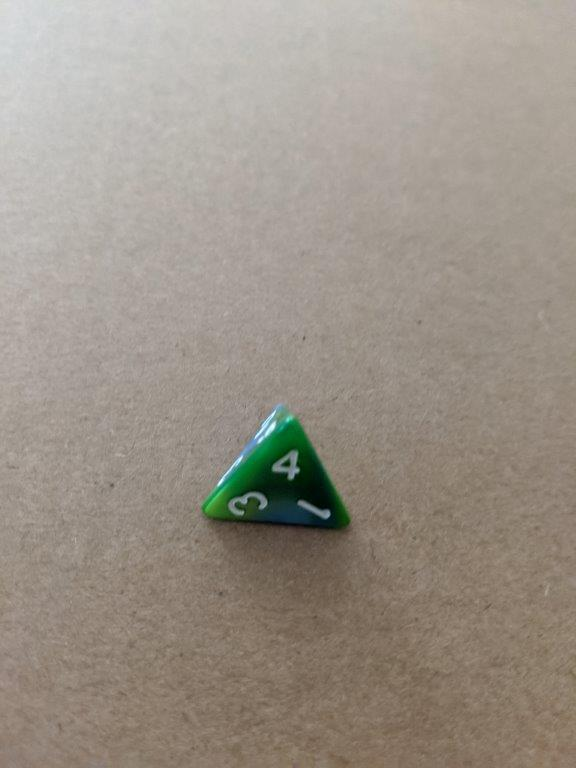d4-4: (201, 402, 354, 536)
